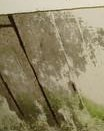Exposed reinforcement: (7, 14, 61, 128), (1, 74, 25, 117), (1, 23, 14, 28), (72, 83, 77, 92)
Spalling: (1, 9, 104, 131)
